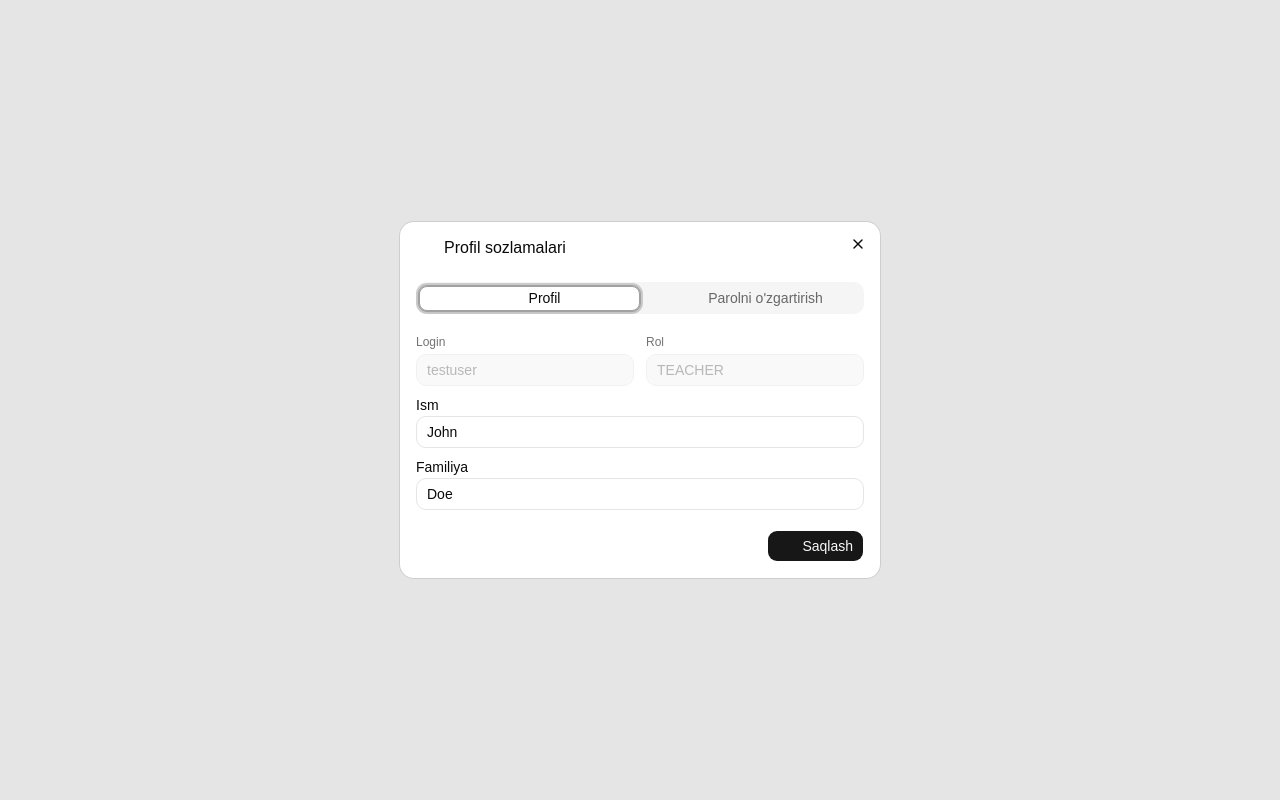
Test: ProfileSettingsDialog › renders profile tab with user info and switches to password tab
Expected: the field showing "testuser" below "Login" is shown, [416,354,634,386]
Expected: the 2nd field showing "TEACHER" is shown, [646,354,864,386]
Click the tab "Parolni o'zgartirish": [750, 298] box [640,286,861,310]
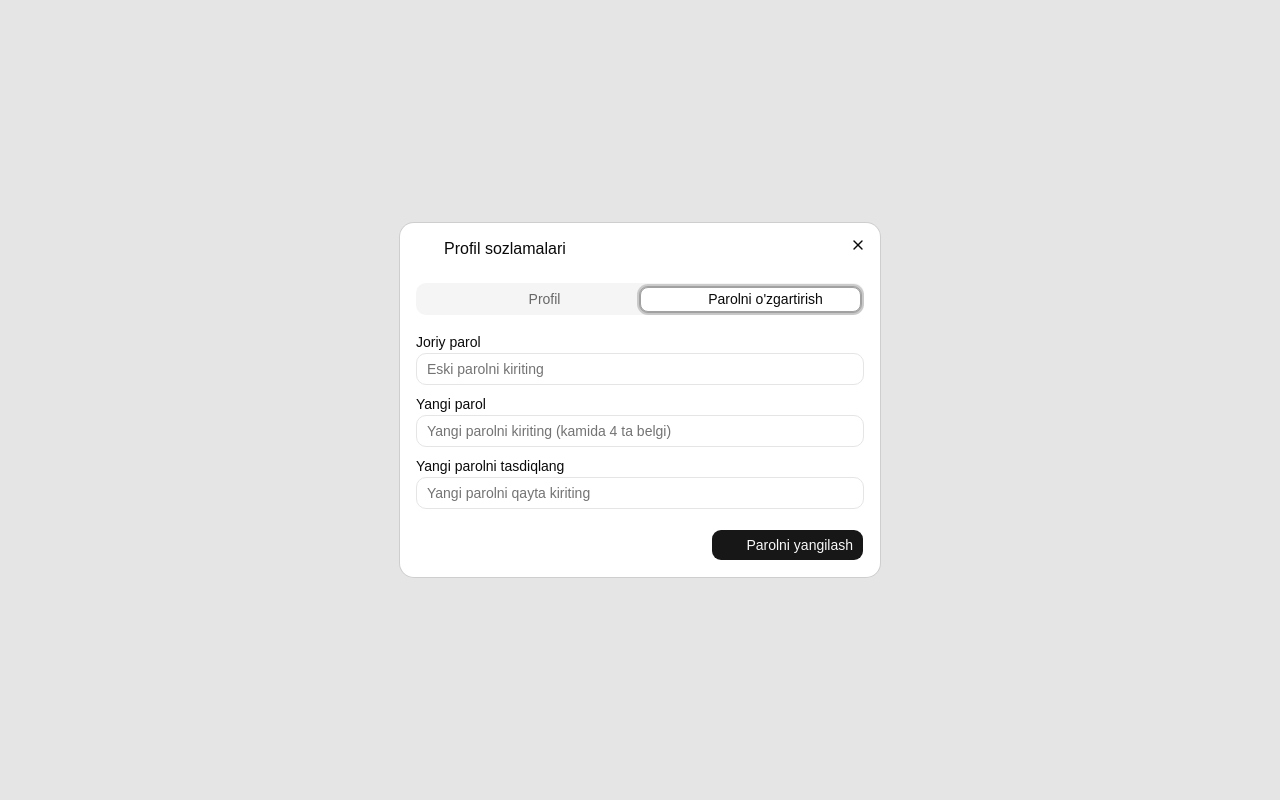
Result: the password field labelled "Joriy parol" is shown at [416,353,864,385]
Result: the password field labelled "Yangi parol" is shown at [416,415,864,447]
Result: the password field labelled "Yangi parolni tasdiqlang" is shown at [416,477,864,509]
